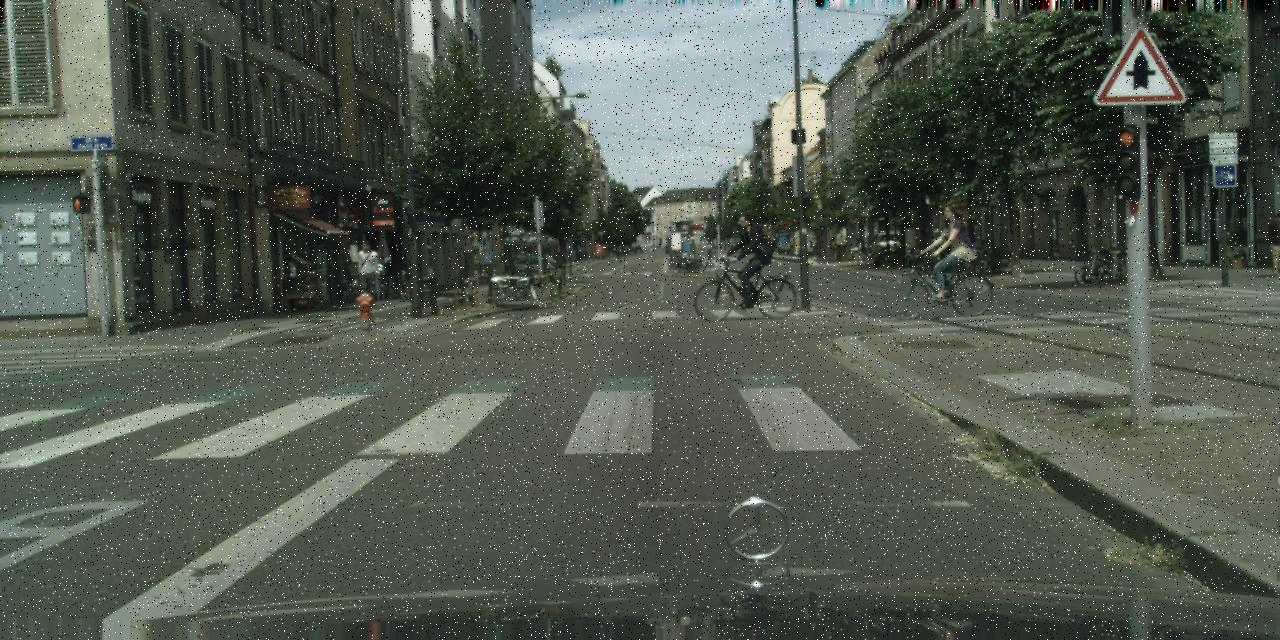ped: (929, 205, 966, 297), (730, 214, 766, 301), (353, 240, 381, 309), (1264, 212, 1278, 276), (810, 238, 816, 254)
